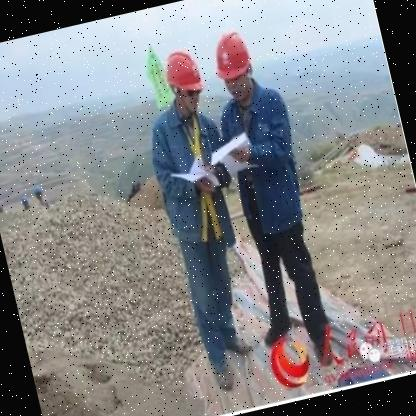capacete: (207, 22, 263, 105), (160, 43, 209, 118)
sem_colete_refletivo: (212, 79, 317, 242), (140, 96, 244, 254)
